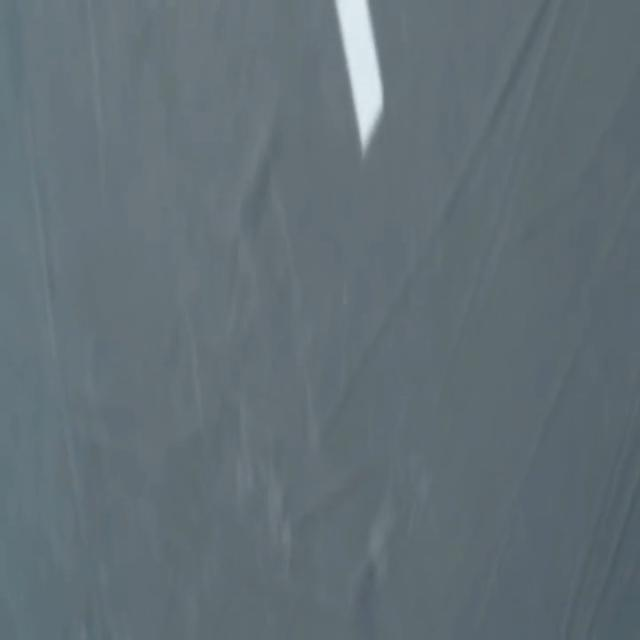center: (334, 0, 383, 156)
